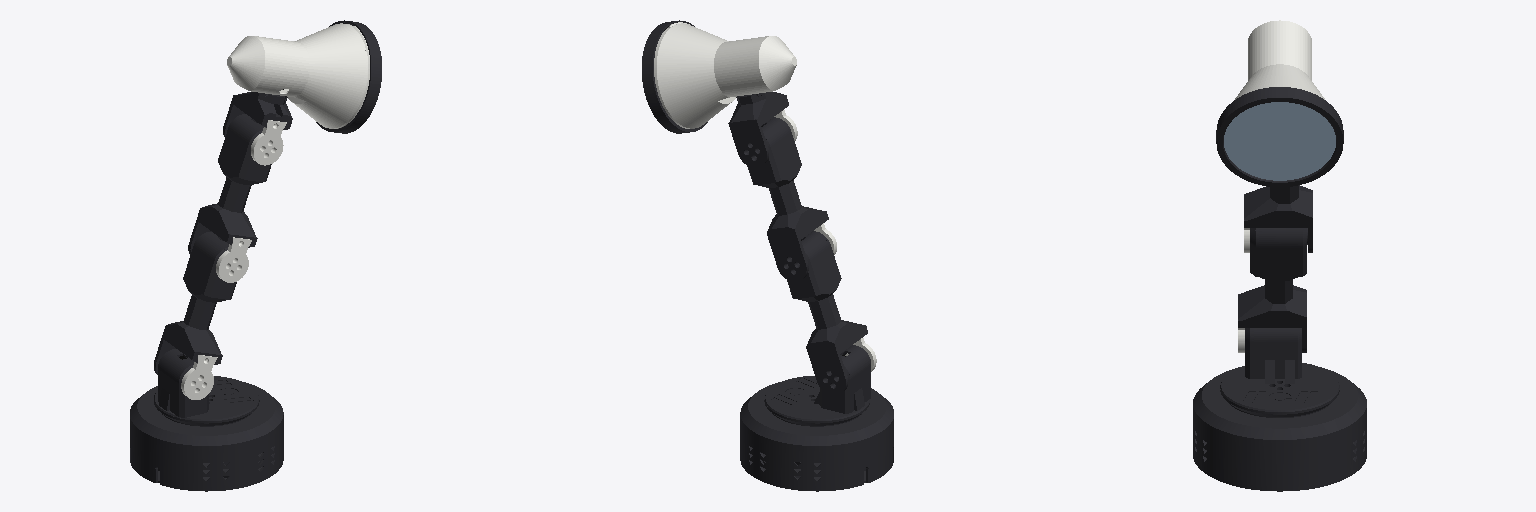
The robot description file, URDF, robot "nc_lamp":
<?xml version="1.0"?>
<!-- NC lamp, generated by cad/build_lamp.py export_urdf(). Meshes in mm (scale 0.001), each in its link frame. -->
<robot name="nc_lamp">
  <material name="dark"><color rgba="0.22 0.22 0.24 1.00"/></material>
  <material name="white"><color rgba="0.92 0.92 0.90 1.00"/></material>
  <material name="clear"><color rgba="0.80 0.90 1.00 0.35"/></material>
  <material name="servo"><color rgba="0.08 0.08 0.08 1.00"/></material>
  <link name="base_link">
    <visual name="base_cup"><origin xyz="0 0 0" rpy="0 0 0"/><geometry><mesh filename="meshes/base_cup.stl" scale="0.001 0.001 0.001"/></geometry><material name="dark"/></visual>
    <collision name="base_cup"><origin xyz="0 0 0" rpy="0 0 0"/><geometry><mesh filename="meshes/base_cup.stl" scale="0.001 0.001 0.001"/></geometry></collision>
    <visual name="base_bottom"><origin xyz="0 0 0" rpy="0 0 0"/><geometry><mesh filename="meshes/base_bottom.stl" scale="0.001 0.001 0.001"/></geometry><material name="dark"/></visual>
    <collision name="base_bottom"><origin xyz="0 0 0" rpy="0 0 0"/><geometry><mesh filename="meshes/base_bottom.stl" scale="0.001 0.001 0.001"/></geometry></collision>
    <visual name="servo_S1"><origin xyz="0.000000 0.000000 0.041630" rpy="1.570796 -0.000000 0.000000"/><geometry><mesh filename="meshes/st3215.stl" scale="0.001 0.001 0.001"/></geometry><material name="servo"/></visual>
    <inertial><origin xyz="-0.000050 -0.000045 0.022296" rpy="0 0 0"/><mass value="0.8957"/><inertia ixx="2.180e-03" ixy="0" ixz="0" iyy="2.180e-03" iyz="0" izz="3.822e-03"/></inertial>
  </link>
  <link name="turntable">
    <visual name="turntable"><origin xyz="0 0 0" rpy="0 0 0"/><geometry><mesh filename="meshes/turntable.stl" scale="0.001 0.001 0.001"/></geometry><material name="dark"/></visual>
    <collision name="turntable"><origin xyz="0 0 0" rpy="0 0 0"/><geometry><mesh filename="meshes/turntable.stl" scale="0.001 0.001 0.001"/></geometry></collision>
    <visual name="tower_lid"><origin xyz="0 0 0" rpy="0 0 0"/><geometry><mesh filename="meshes/tower_lid.stl" scale="0.001 0.001 0.001"/></geometry><material name="dark"/></visual>
    <collision name="tower_lid"><origin xyz="0 0 0" rpy="0 0 0"/><geometry><mesh filename="meshes/tower_lid.stl" scale="0.001 0.001 0.001"/></geometry></collision>
    <visual name="servo_S2"><origin xyz="-0.031000 0.000000 0.108260" rpy="0.000000 -1.570796 0.000000"/><geometry><mesh filename="meshes/st3215.stl" scale="0.001 0.001 0.001"/></geometry><material name="servo"/></visual>
    <inertial><origin xyz="-0.019631 -0.000997 0.089076" rpy="0 0 0"/><mass value="0.1758"/><inertia ixx="2.412e-04" ixy="0" ixz="0" iyy="2.412e-04" iyz="0" izz="3.546e-04"/></inertial>
  </link>
  <link name="upper_arm">
    <visual name="link_upper"><origin xyz="0 0 0" rpy="0 0 0"/><geometry><mesh filename="meshes/link_upper.stl" scale="0.001 0.001 0.001"/></geometry><material name="dark"/></visual>
    <collision name="link_upper"><origin xyz="0 0 0" rpy="0 0 0"/><geometry><mesh filename="meshes/link_upper.stl" scale="0.001 0.001 0.001"/></geometry></collision>
    <visual name="plate_shoulder"><origin xyz="0 0 0" rpy="0 0 0"/><geometry><mesh filename="meshes/plate_shoulder.stl" scale="0.001 0.001 0.001"/></geometry><material name="white"/></visual>
    <collision name="plate_shoulder"><origin xyz="0 0 0" rpy="0 0 0"/><geometry><mesh filename="meshes/plate_shoulder.stl" scale="0.001 0.001 0.001"/></geometry></collision>
    <visual name="lid_upper"><origin xyz="0 0 0" rpy="0 0 0"/><geometry><mesh filename="meshes/lid_upper.stl" scale="0.001 0.001 0.001"/></geometry><material name="dark"/></visual>
    <collision name="lid_upper"><origin xyz="0 0 0" rpy="0 0 0"/><geometry><mesh filename="meshes/lid_upper.stl" scale="0.001 0.001 0.001"/></geometry></collision>
    <visual name="servo_S3"><origin xyz="0.130000 0.005000 -0.000000" rpy="0.000000 -0.000000 0.000000"/><geometry><mesh filename="meshes/st3215.stl" scale="0.001 0.001 0.001"/></geometry><material name="servo"/></visual>
    <inertial><origin xyz="0.083678 -0.000809 0.000128" rpy="0 0 0"/><mass value="0.2009"/><inertia ixx="3.490e-04" ixy="0" ixz="0" iyy="8.011e-04" iyz="0" izz="5.868e-04"/></inertial>
  </link>
  <link name="forearm">
    <visual name="link_fore"><origin xyz="0 0 0" rpy="0 0 0"/><geometry><mesh filename="meshes/link_fore.stl" scale="0.001 0.001 0.001"/></geometry><material name="dark"/></visual>
    <collision name="link_fore"><origin xyz="0 0 0" rpy="0 0 0"/><geometry><mesh filename="meshes/link_fore.stl" scale="0.001 0.001 0.001"/></geometry></collision>
    <visual name="plate_elbow"><origin xyz="0 0 0" rpy="0 0 0"/><geometry><mesh filename="meshes/plate_elbow.stl" scale="0.001 0.001 0.001"/></geometry><material name="white"/></visual>
    <collision name="plate_elbow"><origin xyz="0 0 0" rpy="0 0 0"/><geometry><mesh filename="meshes/plate_elbow.stl" scale="0.001 0.001 0.001"/></geometry></collision>
    <visual name="lid_fore"><origin xyz="0 0 0" rpy="0 0 0"/><geometry><mesh filename="meshes/lid_fore.stl" scale="0.001 0.001 0.001"/></geometry><material name="dark"/></visual>
    <collision name="lid_fore"><origin xyz="0 0 0" rpy="0 0 0"/><geometry><mesh filename="meshes/lid_fore.stl" scale="0.001 0.001 0.001"/></geometry></collision>
    <visual name="servo_S4"><origin xyz="0.130000 0.005000 0.000000" rpy="0.000000 -0.000000 0.000000"/><geometry><mesh filename="meshes/st3215.stl" scale="0.001 0.001 0.001"/></geometry><material name="servo"/></visual>
    <inertial><origin xyz="0.083678 -0.000809 0.000128" rpy="0 0 0"/><mass value="0.2009"/><inertia ixx="8.910e-05" ixy="0" ixz="0" iyy="4.830e-04" iyz="0" izz="5.287e-04"/></inertial>
  </link>
  <link name="neck">
    <visual name="neck"><origin xyz="0 0 0" rpy="0 0 0"/><geometry><mesh filename="meshes/neck.stl" scale="0.001 0.001 0.001"/></geometry><material name="dark"/></visual>
    <collision name="neck"><origin xyz="0 0 0" rpy="0 0 0"/><geometry><mesh filename="meshes/neck.stl" scale="0.001 0.001 0.001"/></geometry></collision>
    <visual name="plate_wrist"><origin xyz="0 0 0" rpy="0 0 0"/><geometry><mesh filename="meshes/plate_wrist.stl" scale="0.001 0.001 0.001"/></geometry><material name="white"/></visual>
    <collision name="plate_wrist"><origin xyz="0 0 0" rpy="0 0 0"/><geometry><mesh filename="meshes/plate_wrist.stl" scale="0.001 0.001 0.001"/></geometry></collision>
    <visual name="cap"><origin xyz="0 0 0" rpy="0 0 0"/><geometry><mesh filename="meshes/cap.stl" scale="0.001 0.001 0.001"/></geometry><material name="dark"/></visual>
    <collision name="cap"><origin xyz="0 0 0" rpy="0 0 0"/><geometry><mesh filename="meshes/cap.stl" scale="0.001 0.001 0.001"/></geometry></collision>
    <inertial><origin xyz="0.027496 -0.008727 0.000000" rpy="0 0 0"/><mass value="0.0817"/><inertia ixx="9.214e-05" ixy="0" ixz="0" iyy="1.302e-04" iyz="0" izz="9.289e-05"/></inertial>
  </link>
  <link name="head">
    <visual name="shade"><origin xyz="0 0 0" rpy="0 0 0"/><geometry><mesh filename="meshes/shade.stl" scale="0.001 0.001 0.001"/></geometry><material name="white"/></visual>
    <collision name="shade"><origin xyz="0 0 0" rpy="0 0 0"/><geometry><mesh filename="meshes/shade.stl" scale="0.001 0.001 0.001"/></geometry></collision>
    <visual name="bezel"><origin xyz="0 0 0" rpy="0 0 0"/><geometry><mesh filename="meshes/bezel.stl" scale="0.001 0.001 0.001"/></geometry><material name="dark"/></visual>
    <collision name="bezel"><origin xyz="0 0 0" rpy="0 0 0"/><geometry><mesh filename="meshes/bezel.stl" scale="0.001 0.001 0.001"/></geometry></collision>
    <visual name="disc"><origin xyz="0 0 0" rpy="0 0 0"/><geometry><mesh filename="meshes/disc.stl" scale="0.001 0.001 0.001"/></geometry><material name="clear"/></visual>
    <collision name="disc"><origin xyz="0 0 0" rpy="0 0 0"/><geometry><mesh filename="meshes/disc.stl" scale="0.001 0.001 0.001"/></geometry></collision>
    <visual name="plate"><origin xyz="0 0 0" rpy="0 0 0"/><geometry><mesh filename="meshes/plate.stl" scale="0.001 0.001 0.001"/></geometry><material name="white"/></visual>
    <collision name="plate"><origin xyz="0 0 0" rpy="0 0 0"/><geometry><mesh filename="meshes/plate.stl" scale="0.001 0.001 0.001"/></geometry></collision>
    <visual name="cover"><origin xyz="0 0 0" rpy="0 0 0"/><geometry><mesh filename="meshes/cover.stl" scale="0.001 0.001 0.001"/></geometry><material name="white"/></visual>
    <collision name="cover"><origin xyz="0 0 0" rpy="0 0 0"/><geometry><mesh filename="meshes/cover.stl" scale="0.001 0.001 0.001"/></geometry></collision>
    <visual name="servo_S5"><origin xyz="0.000000 -0.000000 0.000000" rpy="-1.570796 1.570796 0.000000"/><geometry><mesh filename="meshes/st3215.stl" scale="0.001 0.001 0.001"/></geometry><material name="servo"/></visual>
    <inertial><origin xyz="0.002975 -0.000151 -0.029694" rpy="0 0 0"/><mass value="0.1995"/><inertia ixx="1.013e-03" ixy="0" ixz="0" iyy="1.521e-03" iyz="0" izz="9.617e-04"/></inertial>
  </link>
  <joint name="base_yaw" type="revolute">
    <parent link="base_link"/><child link="turntable"/>
    <origin xyz="0.000000 0.000000 0.000000" rpy="0 0 0"/>
    <axis xyz="0 0 1"/>
    <limit lower="-1.570796" upper="1.570796" effort="2.0" velocity="3.0"/>
    <!-- default pose 0.0 deg -->
  </joint>
  <joint name="shoulder" type="revolute">
    <parent link="turntable"/><child link="upper_arm"/>
    <origin xyz="-0.031000 0.000000 0.108260" rpy="0 0 0"/>
    <axis xyz="0 -1 0"/>
    <limit lower="0.610865" upper="1.832596" effort="2.0" velocity="3.0"/>
    <!-- default pose 70.0 deg -->
  </joint>
  <joint name="elbow" type="revolute">
    <parent link="upper_arm"/><child link="forearm"/>
    <origin xyz="0.130000 0.005000 0.000000" rpy="0 0 0"/>
    <axis xyz="0 -1 0"/>
    <limit lower="-1.396263" upper="0.698132" effort="2.0" velocity="3.0"/>
    <!-- default pose -70.0 deg -->
  </joint>
  <joint name="wrist" type="revolute">
    <parent link="forearm"/><child link="neck"/>
    <origin xyz="0.130000 0.005000 0.000000" rpy="0 0 0"/>
    <axis xyz="0 -1 0"/>
    <limit lower="-0.523599" upper="1.745329" effort="2.0" velocity="3.0"/>
    <!-- default pose 40.0 deg -->
  </joint>
  <joint name="head_roll" type="revolute">
    <parent link="neck"/><child link="head"/>
    <origin xyz="0.075300 -0.010000 0.000000" rpy="0 0 0"/>
    <axis xyz="1 0 0"/>
    <limit lower="-1.396263" upper="1.396263" effort="2.0" velocity="3.0"/>
    <!-- default pose 0.0 deg -->
  </joint>
</robot>

--- What the picture shows (computed from the rendered views, not written in the file) ---
The picture shows the robot from 3 angles, left to right: view 1: azimuth 30°, elevation 25°; view 2: azimuth 150°, elevation 25°; view 3: azimuth 270°, elevation 25°; orthographic projection.
Model nc_lamp with 6 links and 5 joints (5 revolute), rooted at base_link, posed all joints at 0 but 1 set to mid-range because 0 is outside their limits (shoulder = 1.22).
Links seen in each view (by area): view 1: head, base_link, forearm, upper_arm, turntable, neck; view 2: head, base_link, upper_arm, forearm, turntable, neck; view 3: head, base_link, turntable, upper_arm, forearm.
Link boxes in pixels (<box>): head: <box>227,20,381,133</box>; base_link: <box>130,382,283,491</box>; forearm: <box>188,114,271,282</box>; upper_arm: <box>154,232,236,399</box>; turntable: <box>154,349,259,426</box>; neck: <box>223,92,292,165</box>; head: <box>642,20,796,133</box>; base_link: <box>740,382,893,491</box>; upper_arm: <box>787,231,876,395</box>; forearm: <box>747,117,836,281</box>; turntable: <box>764,345,870,426</box>; neck: <box>728,92,797,167</box>; head: <box>1216,20,1343,186</box>; base_link: <box>1193,367,1366,491</box>; turntable: <box>1220,328,1339,417</box>; upper_arm: <box>1238,228,1306,352</box>; forearm: <box>1244,185,1312,252</box>.
Bounding box of the posed robot: 0.2716 × 0.16 × 0.4686 m (x, y, z).
Meshes: 19 distinct files referenced, 23 mesh visuals loaded (19 binary STL).
